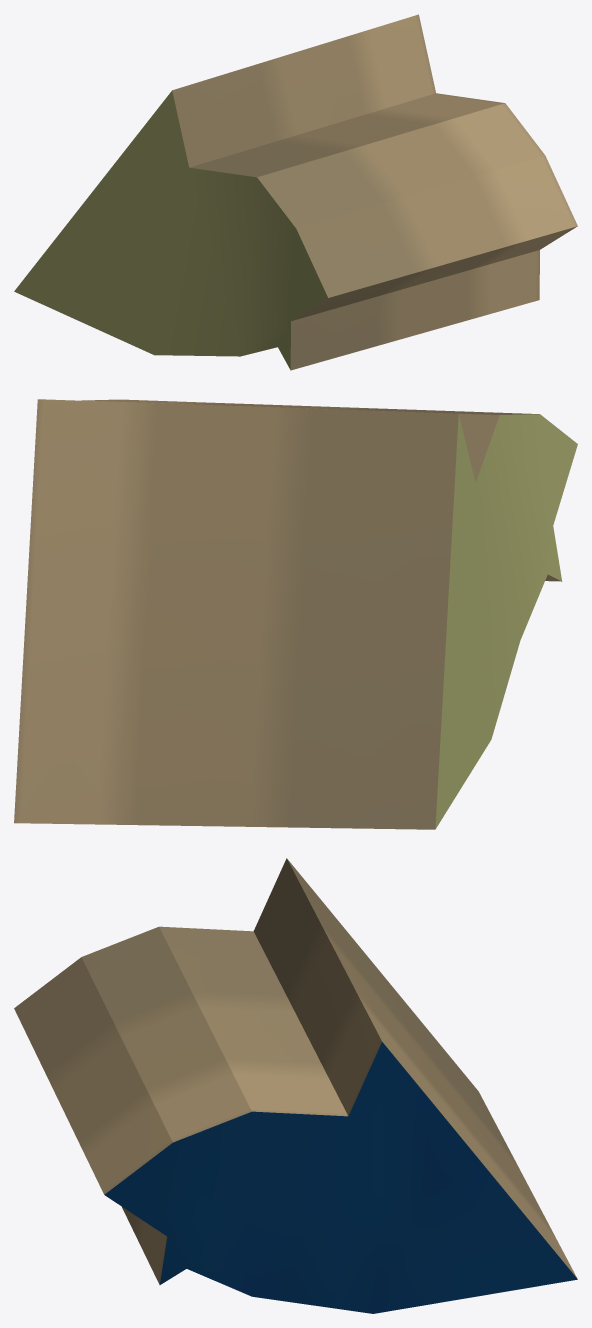
Rendered from 05eb_Nicaragua.glb.
3 views of the same model, one above another, from view 1: azimuth 30°, elevation 25°; view 2: azimuth 150°, elevation 25°; view 3: azimuth 270°, elevation 25° (orthographic). The views are drawn at different scales.
Visible parts, largest first — view 1: part_0; view 2: part_0; view 3: part_0.
Boxes of the visible parts, x1,y1,x2,y2 form: part_0: [14, 14, 577, 370]; part_0: [14, 399, 577, 829]; part_0: [14, 858, 577, 1313].
Size of the model in its own units: 0.2598 by 0.183 by 0.2981.
1 material, 1 textured.
